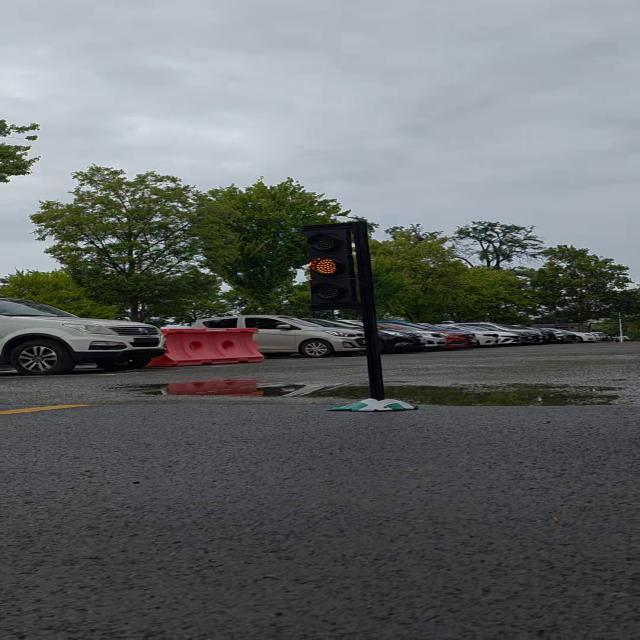yellow: (292, 219, 382, 315)
